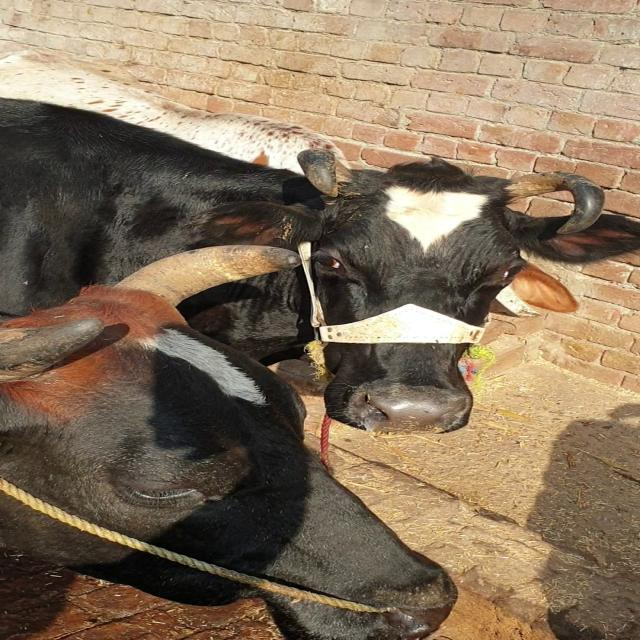cowFace: (72, 361, 447, 640), (283, 129, 529, 443)
